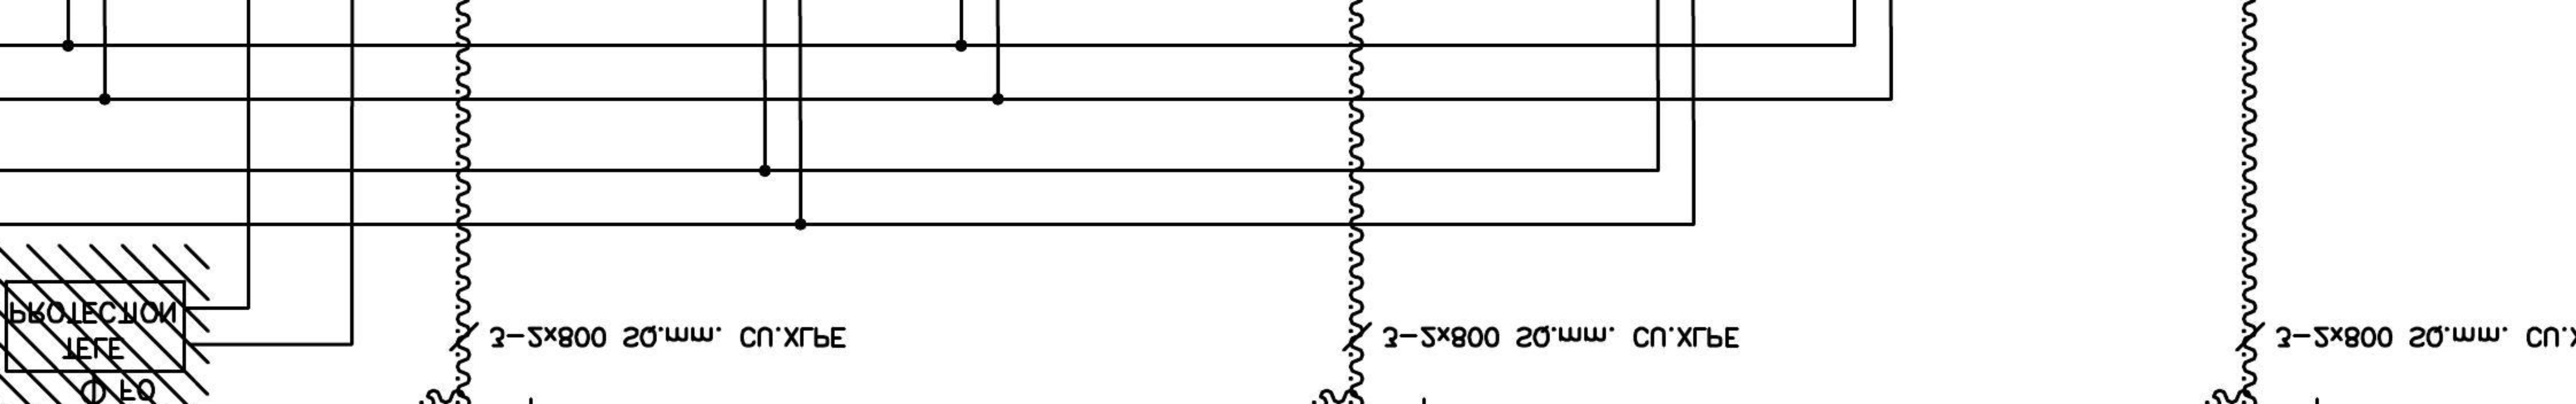tele_protection: (2, 276, 189, 376)
